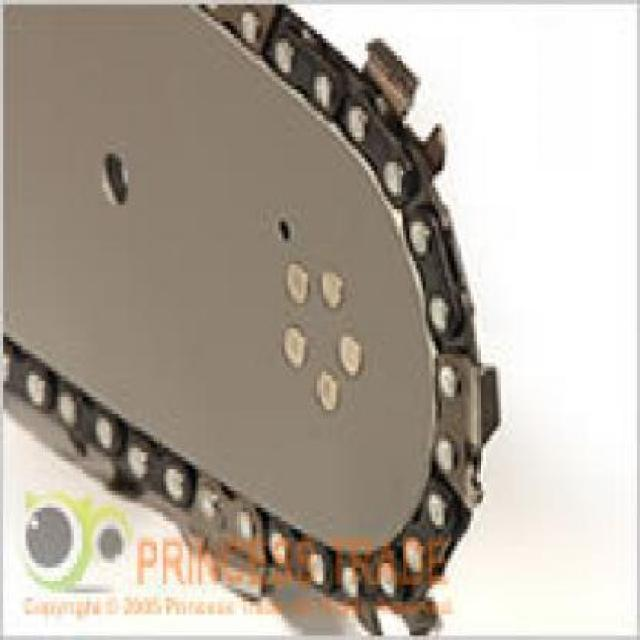Chainsaw: (0, 4, 501, 640)
